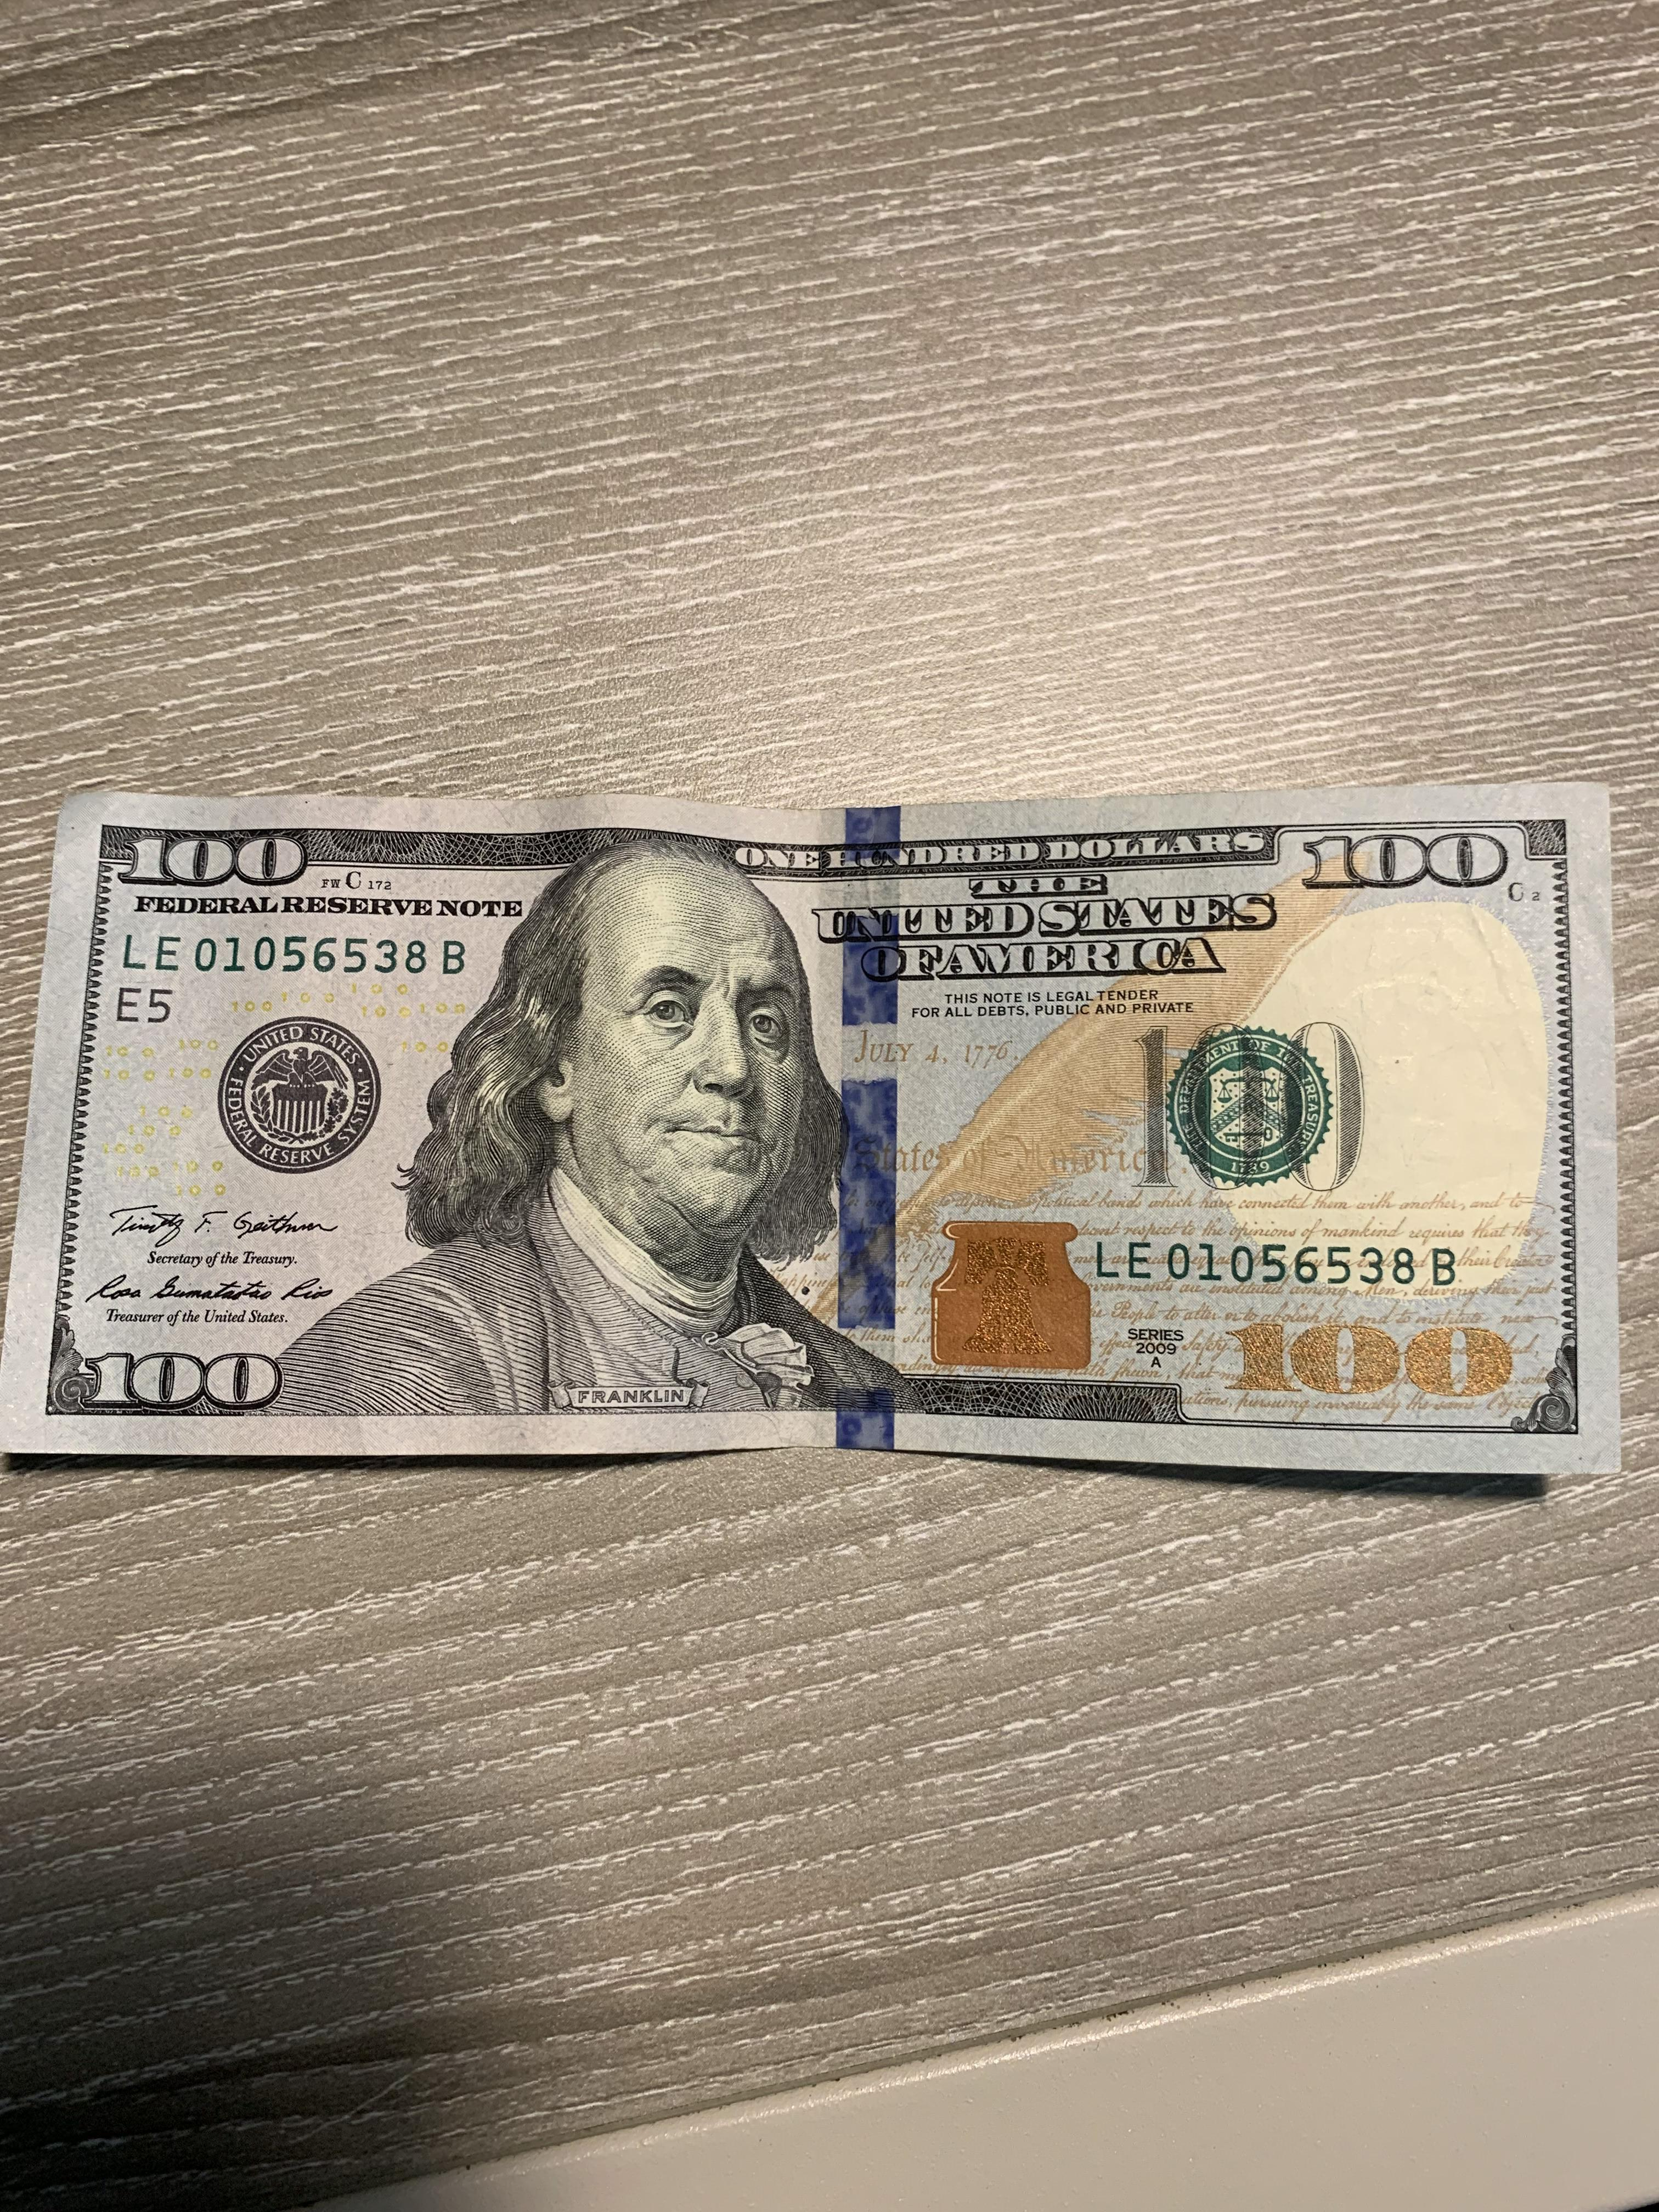HundredBill: (5, 754, 1645, 1512)
